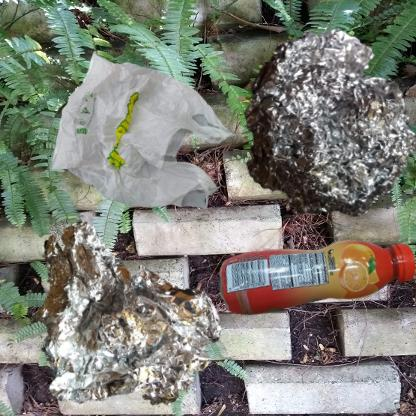aluminio: (213, 10, 416, 259), (10, 213, 246, 416)
bolsa: (10, 10, 287, 293)
botella: (213, 213, 416, 354)
